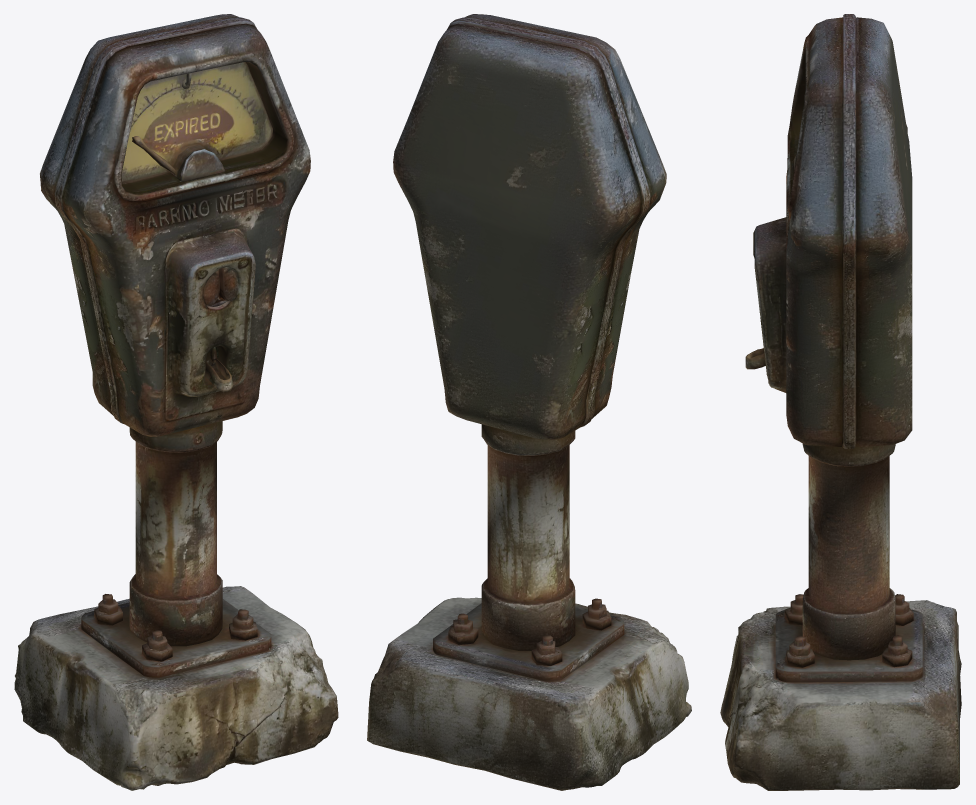
The model's file is 019e8f7c-34c8-7c11-a7ea-57cddc1ff72b.glb.
The picture shows the model from 3 angles, left to right: view 1: azimuth 30°, elevation 25°; view 2: azimuth 150°, elevation 25°; view 3: azimuth 270°, elevation 25°; orthographic projection.
Visible parts, largest first — view 1: tripo_node_a8487584-f8dc-4627-9d76-e5a27b22dce1; view 2: tripo_node_a8487584-f8dc-4627-9d76-e5a27b22dce1; view 3: tripo_node_a8487584-f8dc-4627-9d76-e5a27b22dce1.
Part boxes in pixels (left/top/right/bottom): tripo_node_a8487584-f8dc-4627-9d76-e5a27b22dce1: left=14, top=14, right=338, bottom=790; tripo_node_a8487584-f8dc-4627-9d76-e5a27b22dce1: left=367, top=14, right=691, bottom=790; tripo_node_a8487584-f8dc-4627-9d76-e5a27b22dce1: left=720, top=14, right=961, bottom=790.
Size of the model in its own units: 0.3535 by 0.998 by 0.3145.
Materials: 1 (1 with a texture image).
